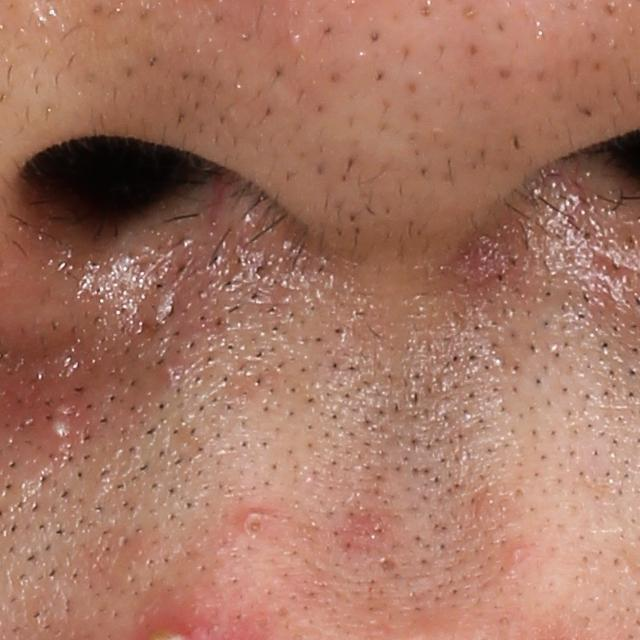comedo: (507, 544, 527, 565)
pustule: (42, 392, 79, 445)
